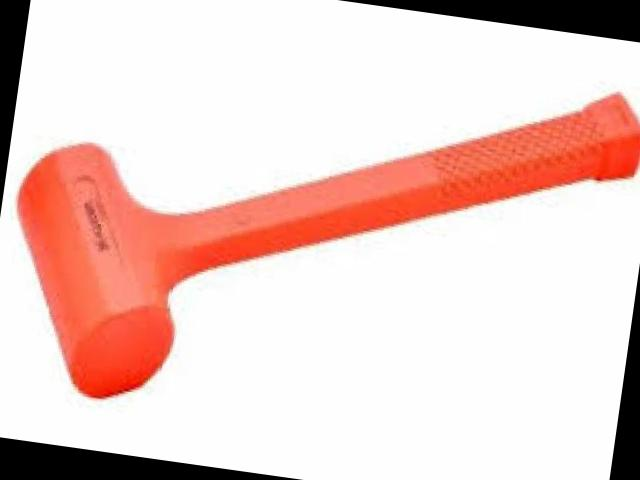hammer: (0, 10, 640, 472)
